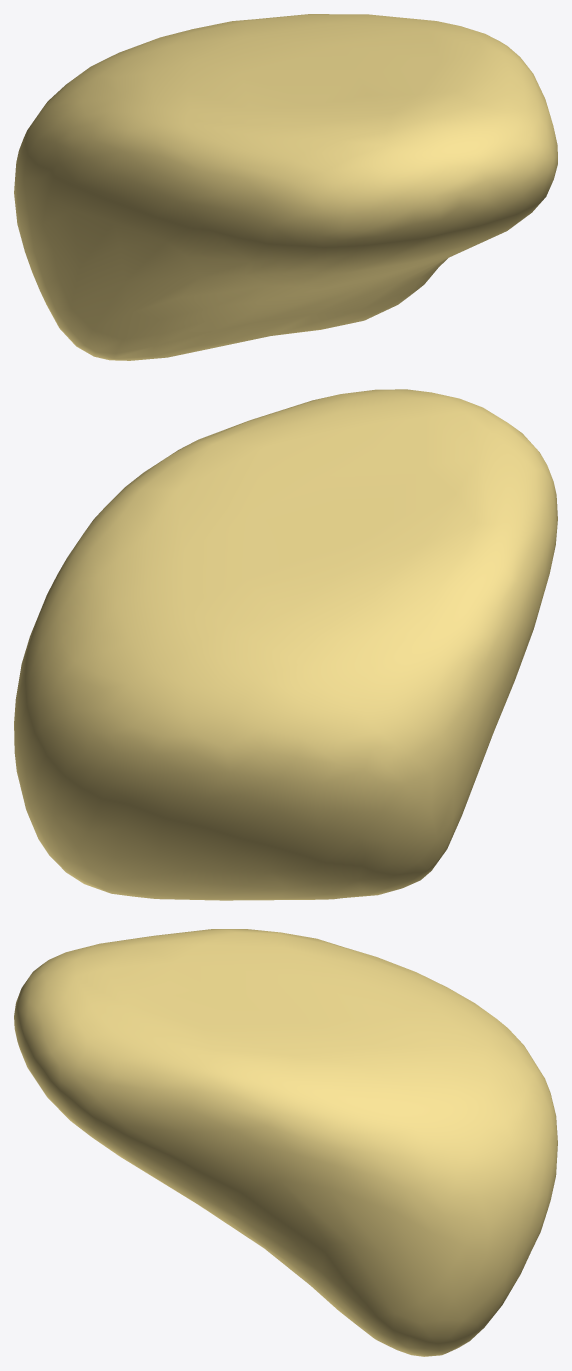
File: fma83890_mm3218.glb
3 views of the same model, one above another, from view 1: azimuth 30°, elevation 25°; view 2: azimuth 150°, elevation 25°; view 3: azimuth 270°, elevation 25° (orthographic). The views are drawn at different scales.
Parts seen in each view (by area): view 1: FMA83890_MM3218; view 2: FMA83890_MM3218; view 3: FMA83890_MM3218.
Boxes of the visible parts, box(x1,y1,x2,y2) form: FMA83890_MM3218: box(14, 14, 557, 360); FMA83890_MM3218: box(14, 389, 557, 900); FMA83890_MM3218: box(14, 929, 557, 1356).
Size of the model in its own units: 0.0151 by 0.0126 by 0.0189.
